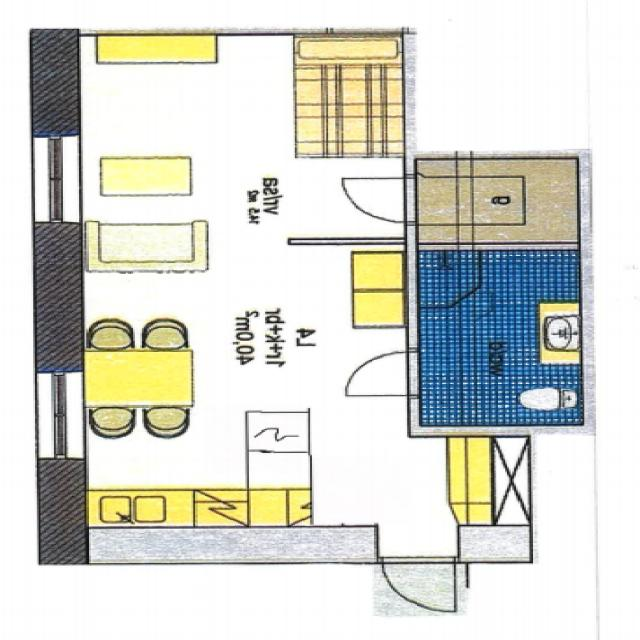door: (383, 557, 456, 612), (342, 178, 417, 221), (343, 353, 417, 395)
